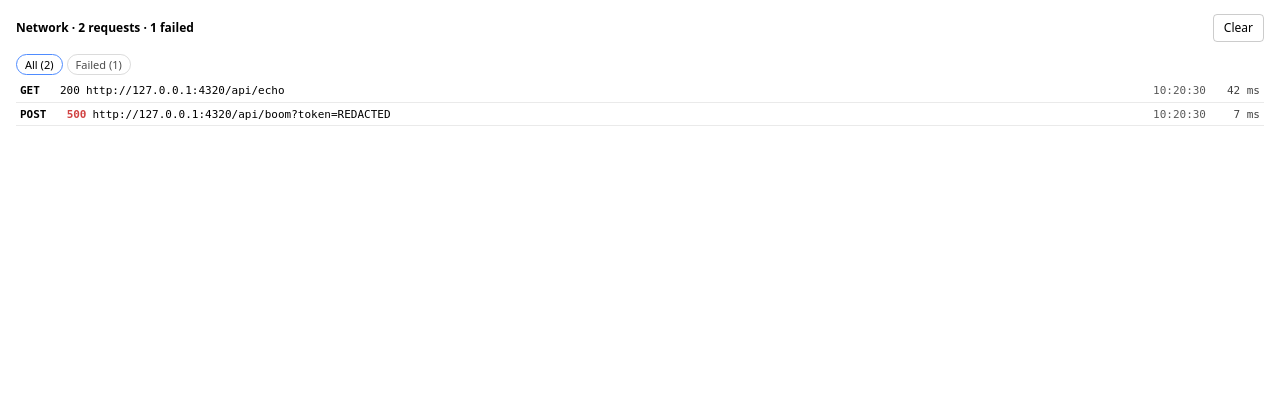
Test case: NetworkDrawer › loads a response body on demand and caches it per row
Step 1. Click the button "GET 200 http://127.0.0.1:4320/api/echo 10:20:30 42 ms" → click(185, 91), box [16,81,1264,103]
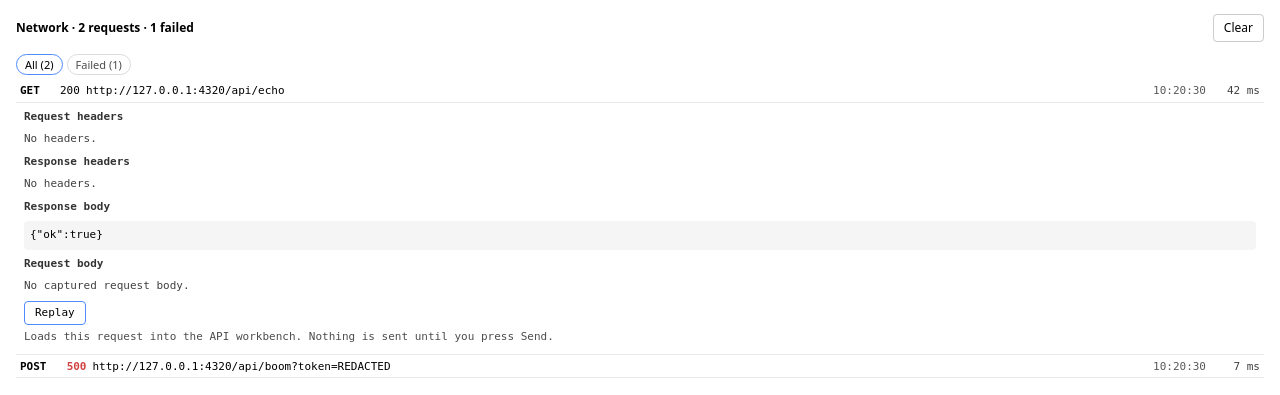
Expected: the text "{\"ok\":true}" is shown, [24,221,1256,250]
Expected: the text "No headers." is shown 2 times, [24,132,97,145]; [24,177,97,190]
Note: Collapsing and reopening reuses the cached body.
Step 2. Click the button "GET 200 http://127.0.0.1:4320/api/echo 10:20:30 42 ms" → click(185, 91), box [16,81,1264,103]
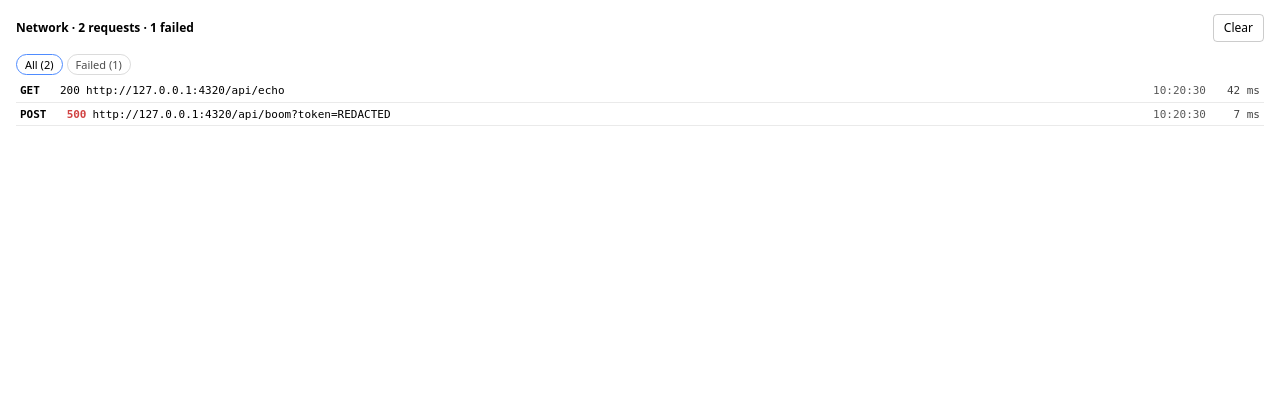
Step 3. Click the button "GET 200 http://127.0.0.1:4320/api/echo 10:20:30 42 ms" → click(185, 91), box [16,81,1264,103]
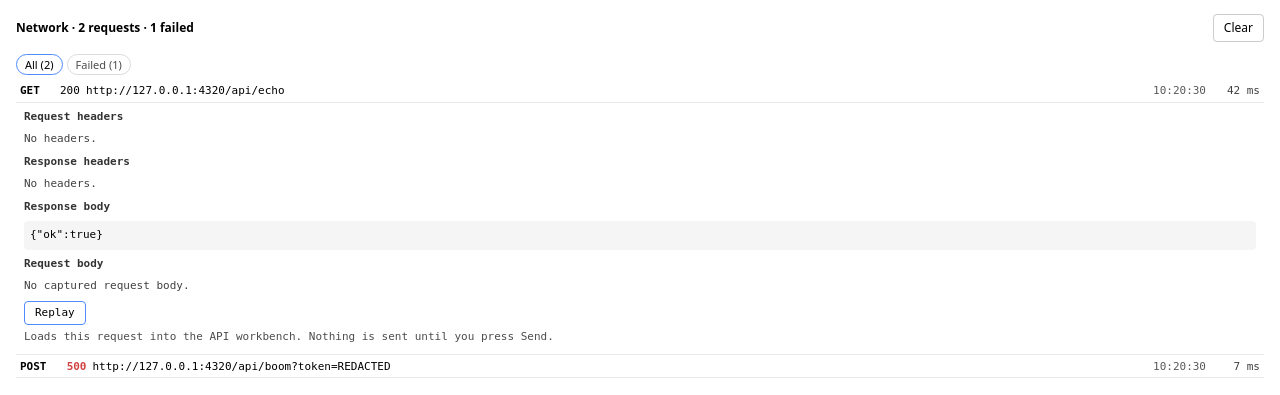
Expected: the text "{\"ok\":true}" is shown, [24,221,1256,250]
